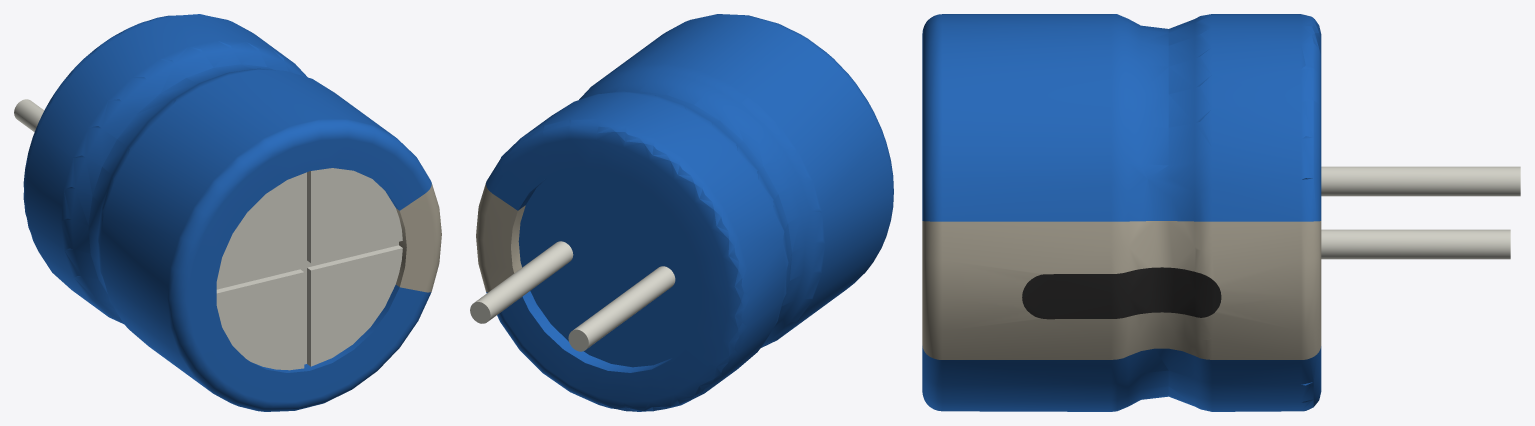
The model's file is cp-radial-d4.0-p1.50.glb.
3 renders of one model, left to right at view 1: azimuth 30°, elevation 25°; view 2: azimuth 150°, elevation 25°; view 3: azimuth 270°, elevation 25°, orthographic. The views are drawn at different scales.
Visible parts, largest first — view 1: PLASTIC-BLUE-01, PIN-01, IC-LABEL-01; view 2: PLASTIC-BLUE-01, PIN-01, IC-LABEL-01; view 3: PLASTIC-BLUE-01, IC-LABEL-01, PIN-01, IC-BODY-EPOXY-04.
Part boxes in pixels (box(x1,y1,x2,y2)): PLASTIC-BLUE-01: box(23, 14, 431, 411); PIN-01: box(14, 99, 402, 370); IC-LABEL-01: box(396, 183, 441, 292); PLASTIC-BLUE-01: box(486, 14, 893, 411); PIN-01: box(470, 241, 675, 351); IC-LABEL-01: box(476, 183, 525, 292); PLASTIC-BLUE-01: box(922, 14, 1321, 411); IC-LABEL-01: box(922, 221, 1321, 359); PIN-01: box(1321, 166, 1520, 259); IC-BODY-EPOXY-04: box(1022, 267, 1221, 319).
Size of the model in its own units: 4 by 3.99 by 6.
